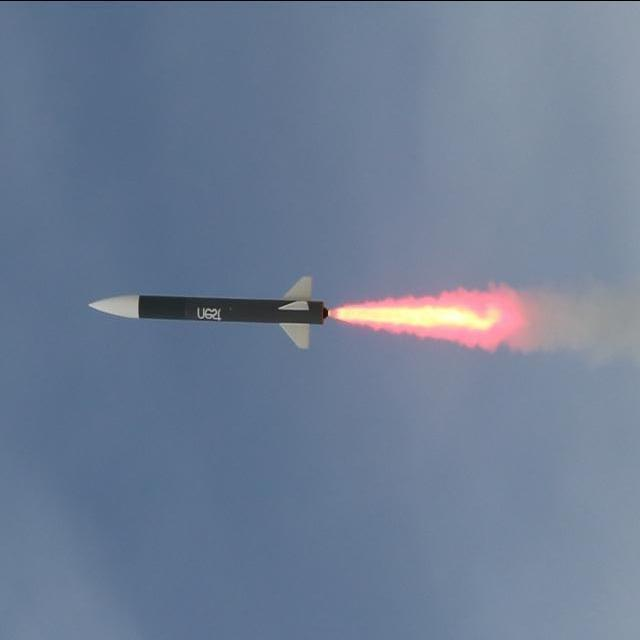missile: (88, 272, 366, 358)
